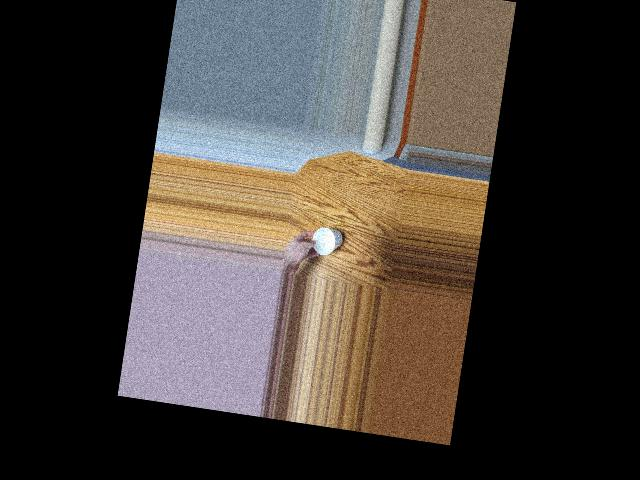cotage: (306, 223, 341, 257)
